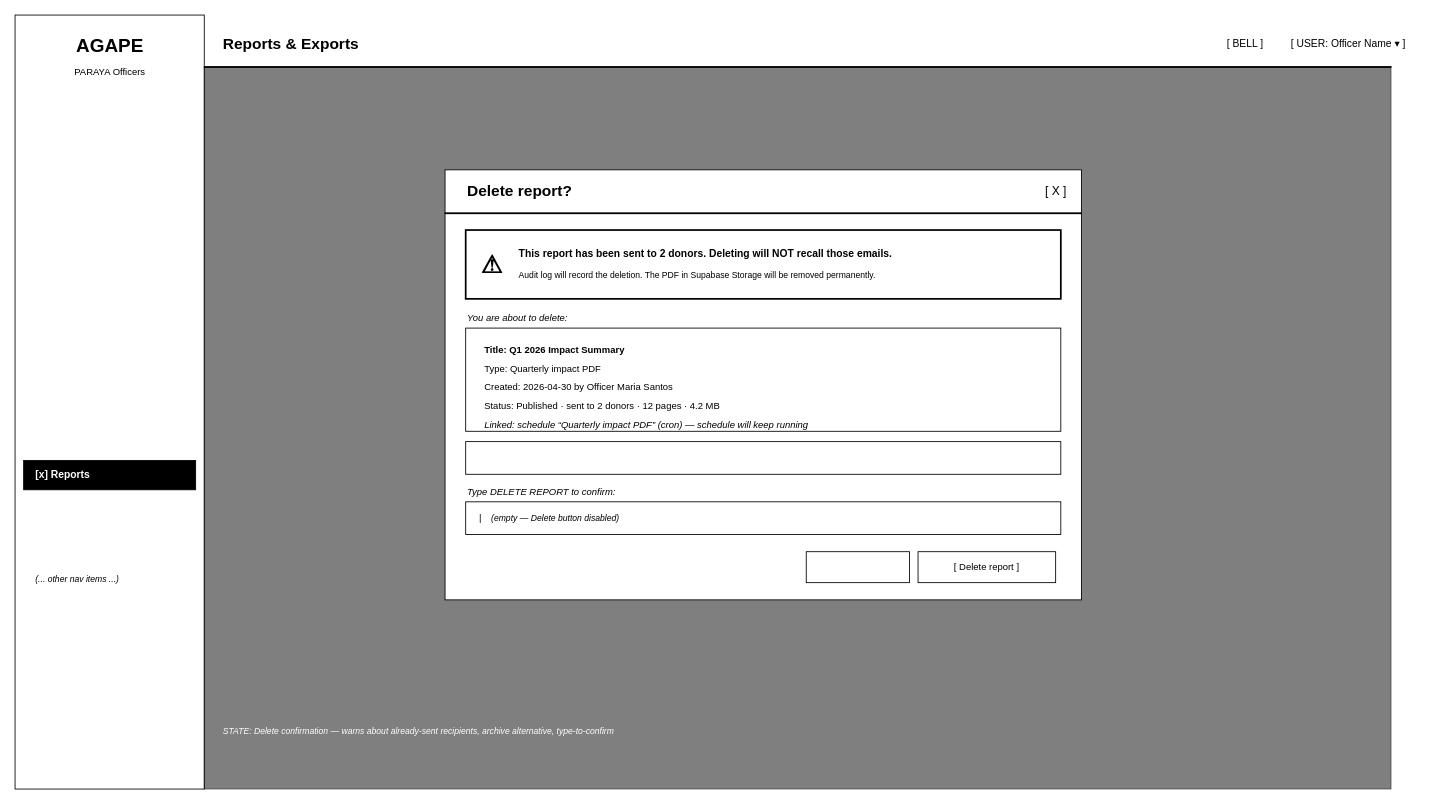
This 1441x804 diagram has some shape labels left out. Each missing label, with the centre of its shape:
"[ ] Archive instead of permanently delete (kept 90 days, then auto-purged)" goes at pixel 763 457.
"[ Cancel ]" goes at pixel 857 567.
